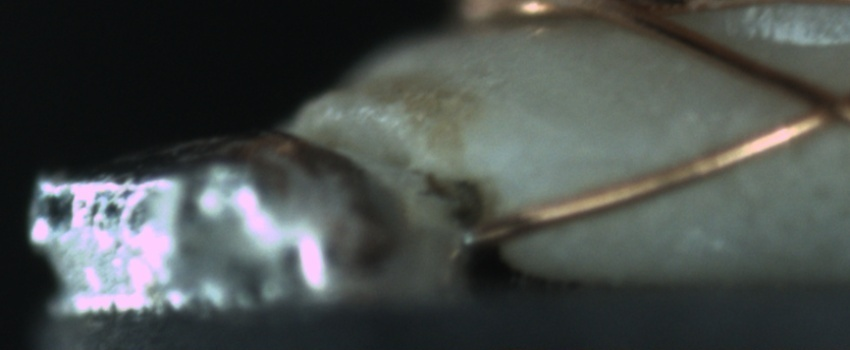CL: (774, 67, 848, 138)
